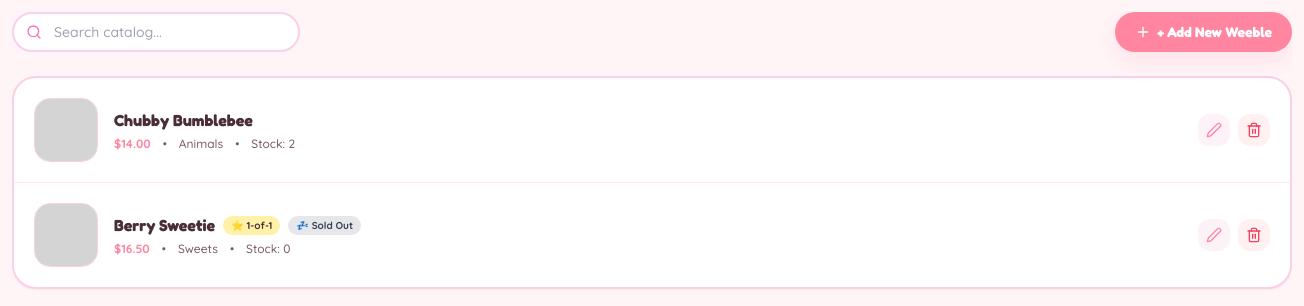
Test: InventoryTab › filters products using the search input
Expected: the heading "Chubby Bumblebee" is shown, 114,108 -> 253,132
Expected: the heading "Berry Sweetie" is shown, 114,213 -> 215,237
In the field with placeholder "Search catalog...": {"x": 156, "y": 32} 12,12 -> 300,52, type "strawberry"
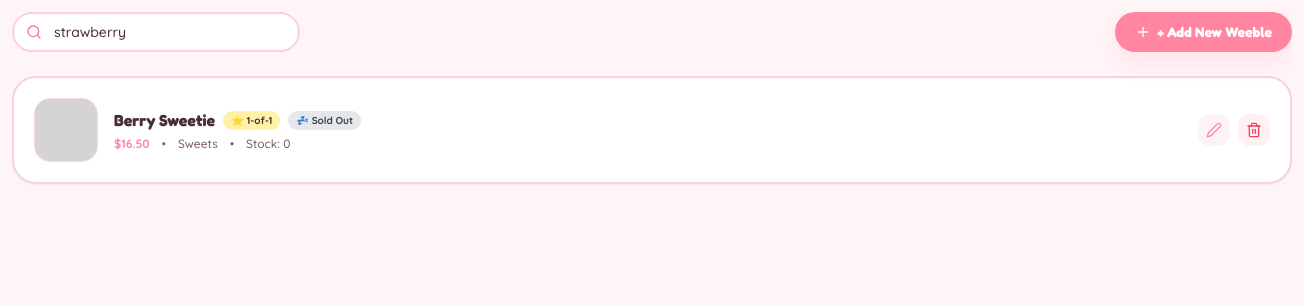
Expected: the heading "Berry Sweetie" is shown, 114,108 -> 215,132
Now the heading "Chubby Bumblebee" is gone
Clear search
Clear the field with placeholder "Search catalog...": {"x": 156, "y": 32} 12,12 -> 300,52
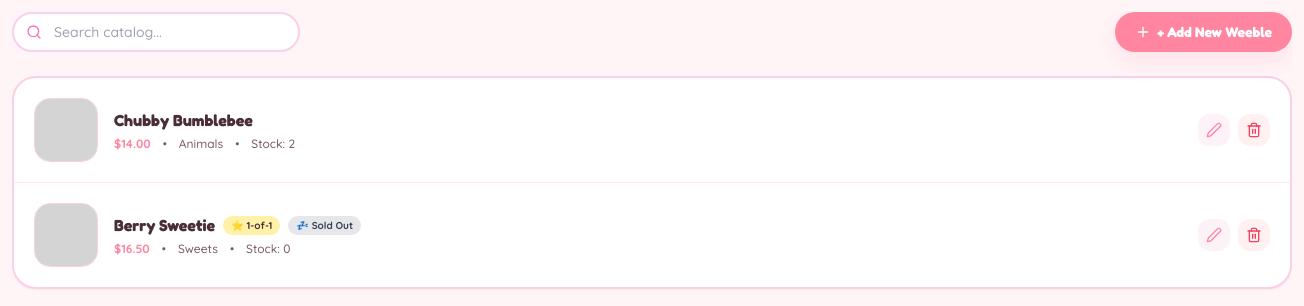
Now the heading "Chubby Bumblebee" is shown, box 114,108 -> 253,132
